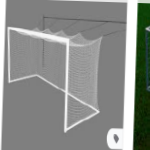goals: (6, 25, 101, 134)
